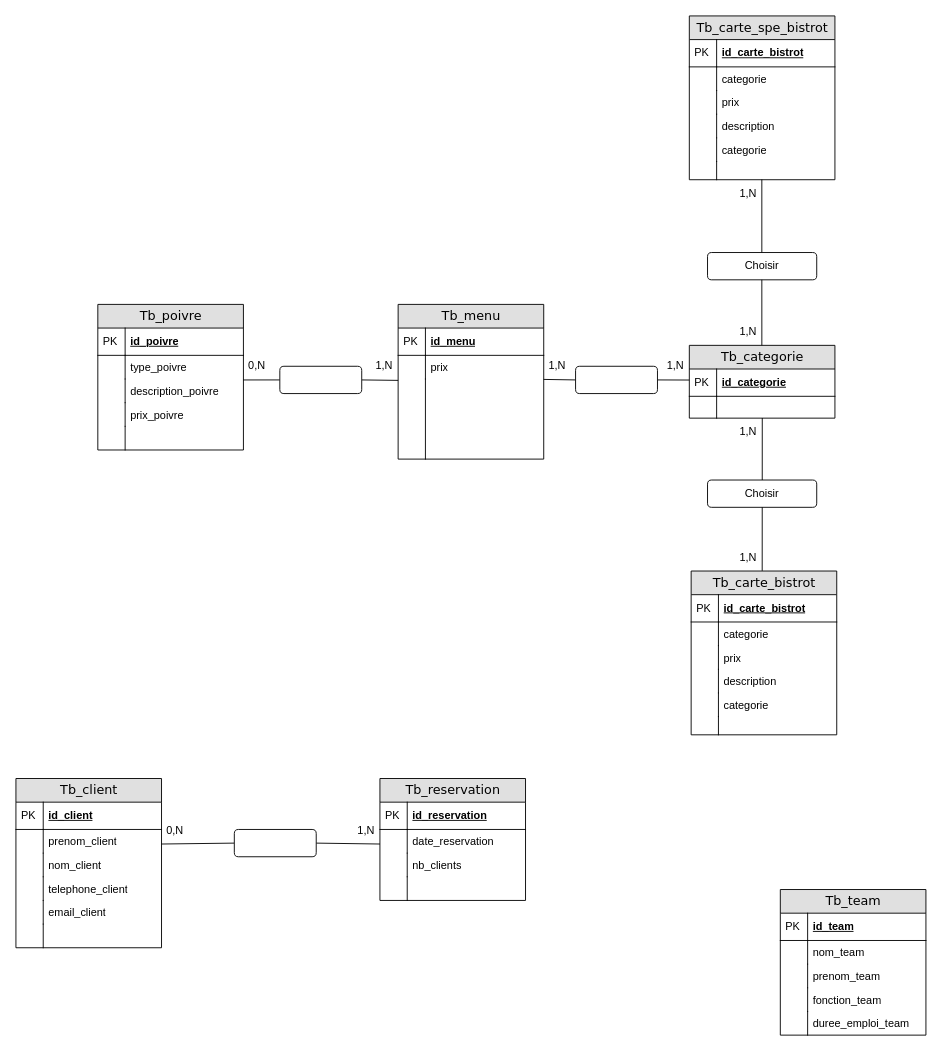
Some shapes in this 942 by 1054 pixel diagram are drawn without their labels. Each missing label, with the centre of its shape:
Ajouter: the point at 320,379
Composer: the point at 616,379
Effectuer: the point at 274,843
